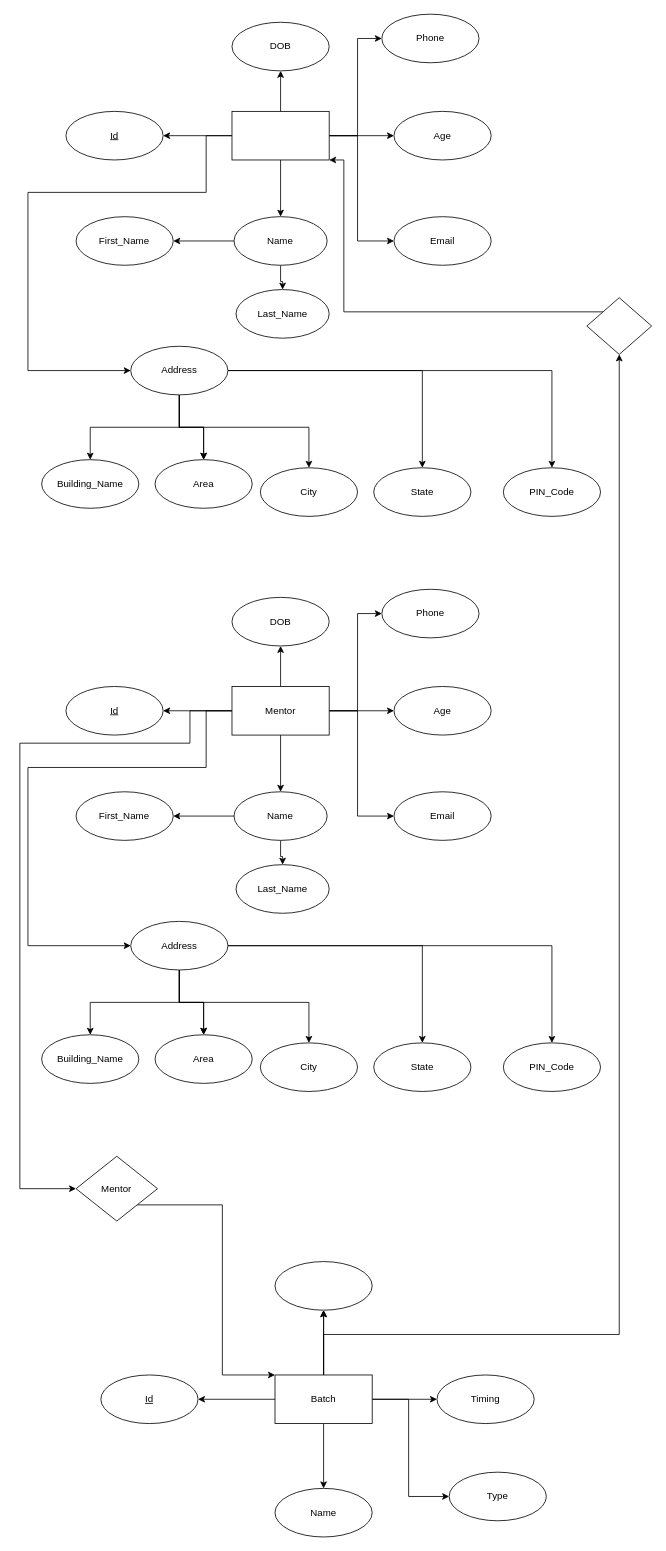
The diagram is 666 pixels wide and 1551 high, and some of its shapes have lost their labels. The box of each missing label's shape, as (x1, y1, x2, y2) in pixels:
Class: (586, 297, 652, 354)
Start_Date: (274, 1261, 372, 1310)
Student: (231, 111, 329, 160)
